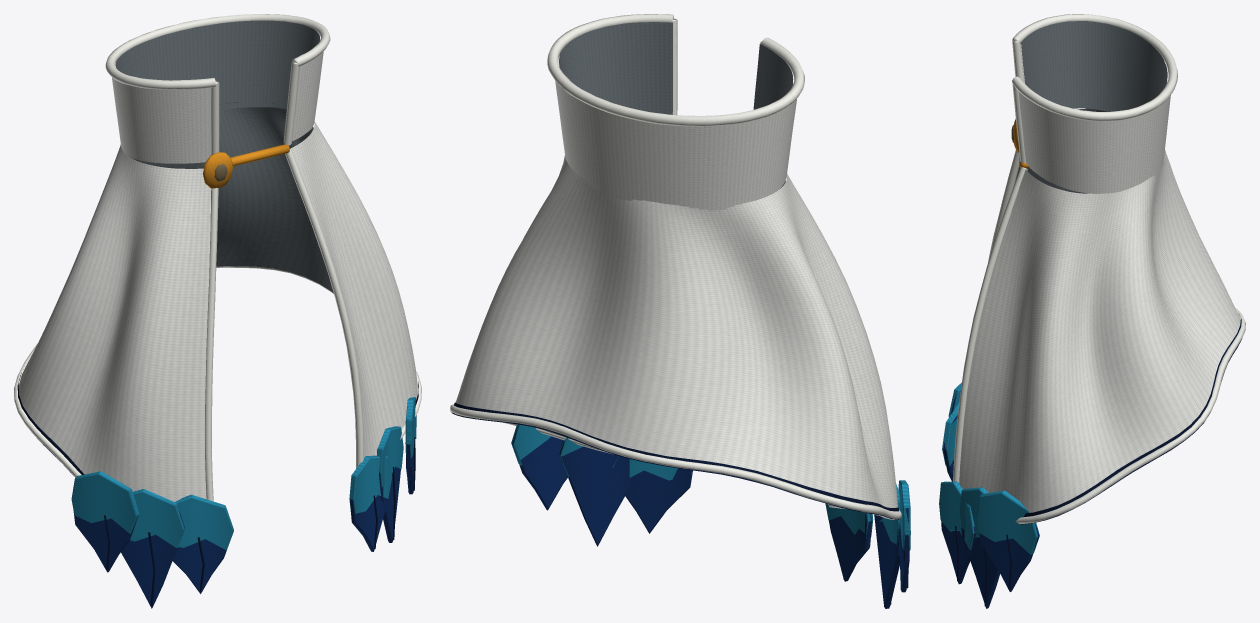
The model's file is rocs_cape.glb.
3 views of the same model, side by side, from view 1: azimuth 30°, elevation 25°; view 2: azimuth 150°, elevation 25°; view 3: azimuth 270°, elevation 25° (orthographic). The views are drawn at different scales.
Visible parts, largest first — view 1: White draped cape, Visible gray inner cape, Gray inside collar, Upright white open collar, White rolled front opening seam (×2), White rolled collar rim, Cyan feather shoulder 03, Cyan feather shoulder 05, Pointed blue flight feather 04, Cyan feather shoulder 04, Cyan feather shoulder 00, Pointed blue flight feather 03 (+9 smaller); view 2: White draped cape, Upright white open collar, Gray inside collar, White rolled collar rim, Pointed blue flight feather 01, White hem rolled edge, Pointed blue flight feather 00, Coherent dark blue back hem, Pointed blue flight feather 02, Pointed blue flight feather 05, Pointed blue flight feather 04, Cyan feather shoulder 02 (+2 smaller); view 3: White draped cape, Gray inside collar, Upright white open collar, White rolled collar rim, White rolled front opening seam (×2), Cyan feather shoulder 02, White hem rolled edge, Pointed blue flight feather 02, Cyan feather shoulder 00, Coherent dark blue back hem, Pointed blue flight feather 01, Pointed blue flight feather 00 (+3 smaller).
Boxes of the visible parts, left/top/right/bottom form: White draped cape: left=18, top=121, right=417, bottom=501; Visible gray inner cape: left=130, top=102, right=333, bottom=293; Gray inside collar: left=115, top=20, right=319, bottom=110; Upright white open collar: left=112, top=51, right=323, bottom=163; White rolled front opening seam (×2): left=205, top=148, right=363, bottom=501; White rolled collar rim: left=105, top=14, right=330, bottom=89; Cyan feather shoulder 03: left=71, top=471, right=139, bottom=533; Cyan feather shoulder 05: left=175, top=494, right=233, bottom=550; Pointed blue flight feather 04: left=121, top=508, right=184, bottom=608; Cyan feather shoulder 04: left=130, top=489, right=184, bottom=547; Cyan feather shoulder 00: left=349, top=455, right=392, bottom=514; Pointed blue flight feather 03: left=73, top=512, right=136, bottom=572; White draped cape: left=455, top=155, right=897, bottom=507; Upright white open collar: left=555, top=80, right=796, bottom=210; Gray inside collar: left=559, top=22, right=793, bottom=114; White rolled collar rim: left=547, top=14, right=804, bottom=126; Pointed blue flight feather 01: left=559, top=441, right=630, bottom=546; White hem rolled edge: left=450, top=404, right=901, bottom=519; Pointed blue flight feather 00: left=625, top=468, right=692, bottom=533; Coherent dark blue back hem: left=451, top=402, right=899, bottom=519; Pointed blue flight feather 02: left=512, top=428, right=567, bottom=510; Pointed blue flight feather 05: left=829, top=513, right=871, bottom=581; Pointed blue flight feather 04: left=874, top=515, right=900, bottom=608; Cyan feather shoulder 02: left=511, top=424, right=550, bottom=465; White draped cape: left=959, top=150, right=1240, bottom=512; Gray inside collar: left=1021, top=21, right=1167, bottom=111; Upright white open collar: left=1018, top=91, right=1170, bottom=193; White rolled collar rim: left=1012, top=14, right=1177, bottom=121; White rolled front opening seam (×2): left=953, top=150, right=1027, bottom=482; Cyan feather shoulder 02: left=976, top=490, right=1039, bottom=554; White hem rolled edge: left=1015, top=308, right=1245, bottom=523; Pointed blue flight feather 02: left=979, top=523, right=1039, bottom=591; Cyan feather shoulder 00: left=939, top=481, right=974, bottom=550; Coherent dark blue back hem: left=1021, top=314, right=1242, bottom=524; Pointed blue flight feather 01: left=961, top=528, right=1000, bottom=608; Pointed blue flight feather 00: left=941, top=521, right=976, bottom=584.
Bounding box in the file's own units: 60.51 × 77.68 × 43.82.
8 materials, 7 textured.
